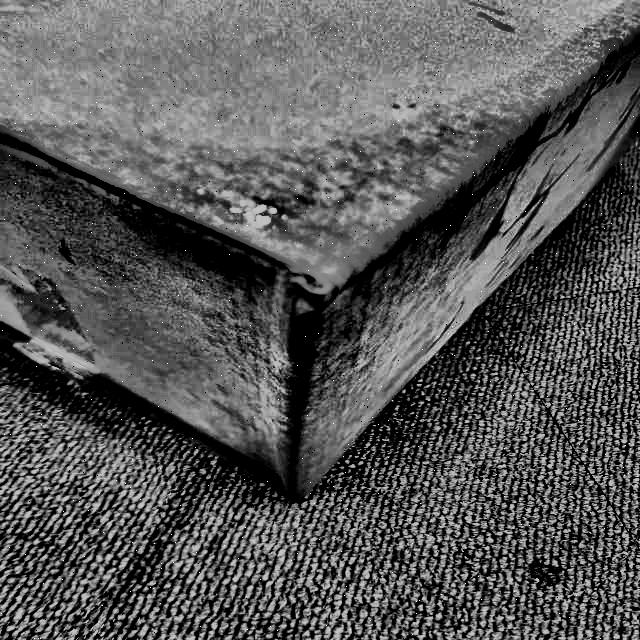box: (1, 0, 639, 509)
wet: (153, 113, 526, 501)
